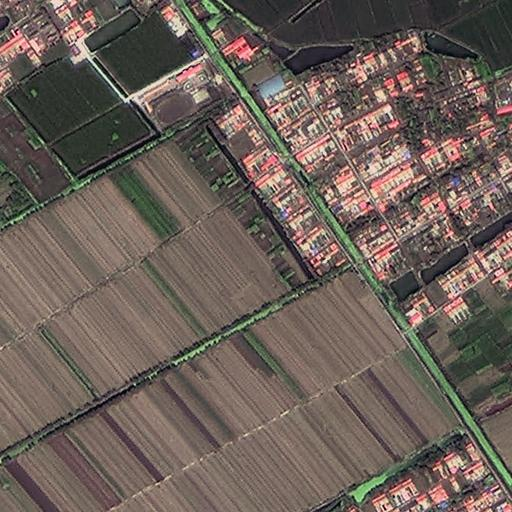school: (135, 57, 233, 135)
